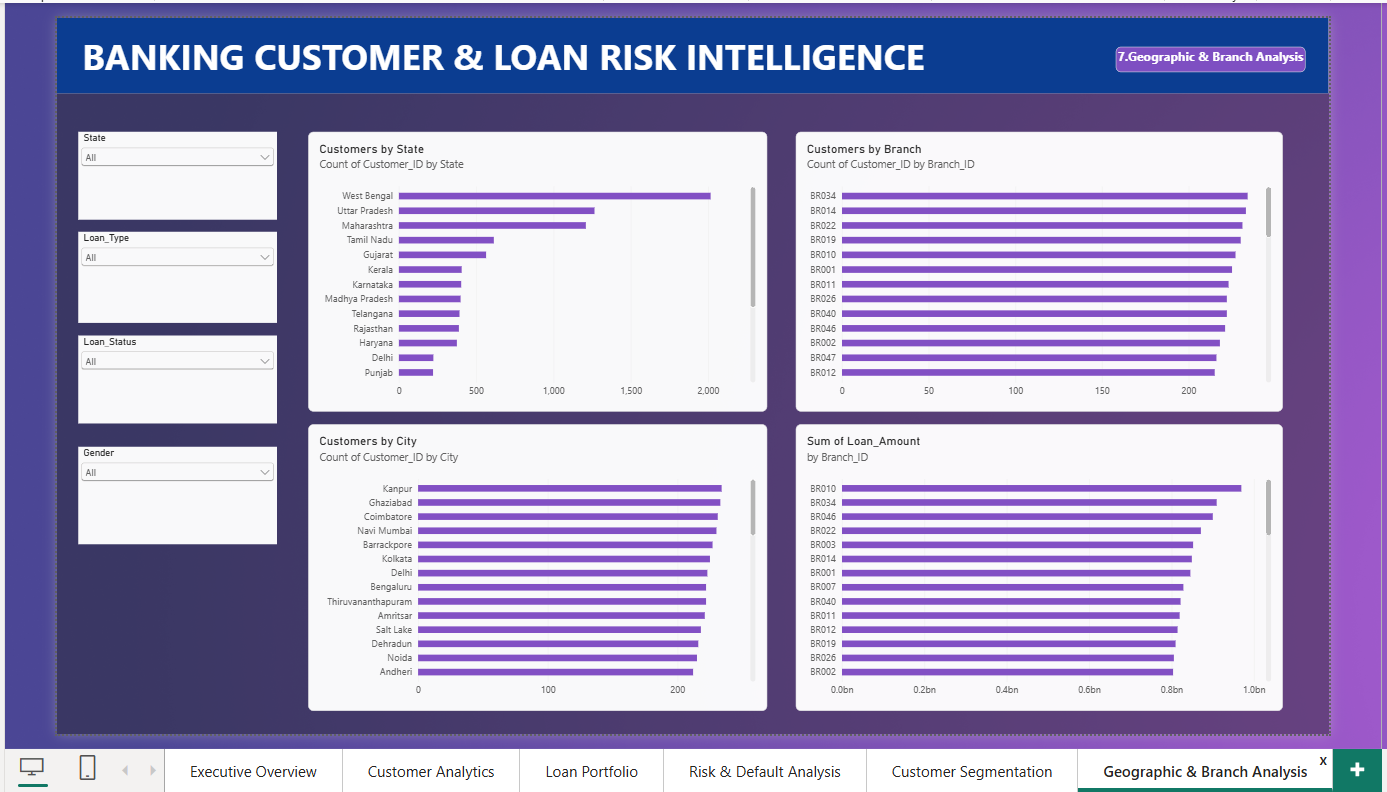

The page's visual inventory and layout, read from the dashboard file:
{"tool":"powerbi","page":{"name":"Geographic & Branch Analysis","canvas":[1920,1080],"ordinal":5},"visuals":[{"type":"barChart","title":"Customers by State","fields":{"Category":["customers.State"],"Y":["CountNonNull(customers.Customer_ID)"]},"box":[380,172.5,692.5,422.5],"z":0},{"type":"barChart","title":"Customers by City","fields":{"Category":["customers.City"],"Y":["CountNonNull(customers.Customer_ID)"]},"box":[380,612.5,692.5,432.5],"z":1000},{"type":"barChart","title":"Customers by Branch","fields":{"Category":["customers.Branch_ID"],"Y":["CountNonNull(customers.Customer_ID)"]},"box":[1115,172.5,735,422.5],"z":2000},{"type":"barChart","fields":{"Category":["customers.Branch_ID"],"Y":["Sum(loans.Loan_Amount)"]},"box":[1115,612.5,735,432.5],"z":3000},{"type":"slicer","fields":{"Values":["customers.State"]},"box":[32.5,172.5,300,132.5],"z":4000},{"type":"slicer","fields":{"Values":["loans.Loan_Type"]},"box":[32.5,322.5,300,137.5],"z":5000},{"type":"slicer","fields":{"Values":["loans.Loan_Status"]},"box":[32.5,480,300,132.5],"z":6000},{"type":"slicer","fields":{"Values":["customers.Gender"]},"box":[32.5,647.5,300,147.5],"z":7000},{"type":"shape","box":[0,0,1918.9,113.7],"z":8000},{"type":"textbox","box":[1598.3,43.3,286.7,38.3],"z":8001}]}

Visuals, with their boxes on the page's 1920x1080 design canvas (x1, y1, x2, y2). These are canvas units, not pixel positions in the 1387x792 screenshot, which may show the page scaled, cropped or inside an application window:
"Customers by State" barChart: crop(380, 172, 1072, 595)
"Customers by City" barChart: crop(380, 612, 1072, 1045)
"Customers by Branch" barChart: crop(1115, 172, 1850, 595)
barChart - customers.Branch_ID x Sum(loans.Loan_Amount): crop(1115, 612, 1850, 1045)
slicer - customers.State: crop(32, 172, 332, 305)
slicer - loans.Loan_Type: crop(32, 322, 332, 460)
slicer - loans.Loan_Status: crop(32, 480, 332, 612)
slicer - customers.Gender: crop(32, 648, 332, 795)
shape: crop(0, 0, 1919, 114)
textbox: crop(1598, 43, 1885, 82)
